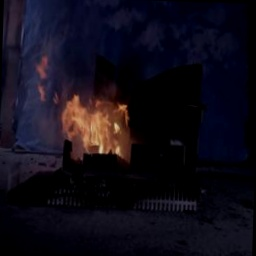fire: (52, 78, 135, 163)
